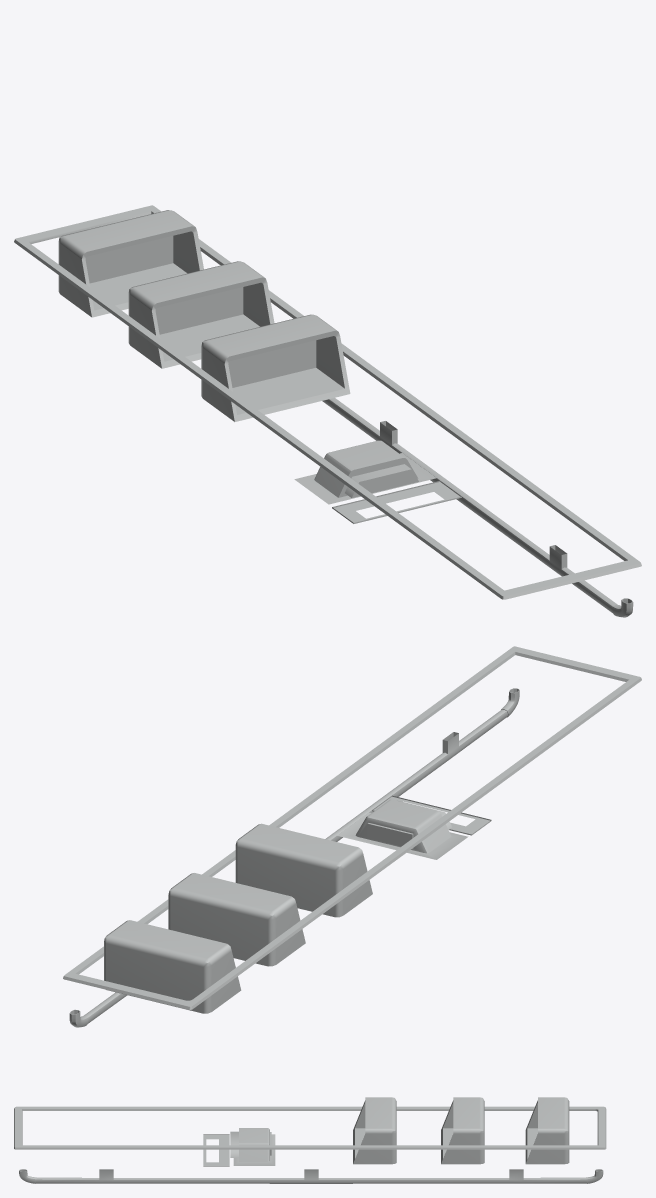
The model's file is MeshFridgeFreezerdoorD5_3_GeomSubset_1.obj.
3 views of the same model, one above another, from view 1: azimuth 30°, elevation 25°; view 2: azimuth 150°, elevation 25°; view 3: azimuth 270°, elevation 25° (orthographic). The views are drawn at different scales.
Visible parts, largest first — view 1: MeshFridgeFreezerdoorD5_3_GeomSubset_1; view 2: MeshFridgeFreezerdoorD5_3_GeomSubset_1; view 3: MeshFridgeFreezerdoorD5_3_GeomSubset_1.
Boxes of the visible parts, x1,y1,x2,y2 form: MeshFridgeFreezerdoorD5_3_GeomSubset_1: (14, 205, 641, 617); MeshFridgeFreezerdoorD5_3_GeomSubset_1: (63, 646, 641, 1027); MeshFridgeFreezerdoorD5_3_GeomSubset_1: (14, 1097, 606, 1183).
Bounding box in the file's own units: 0.3136 × 0.4168 × 1.74.
